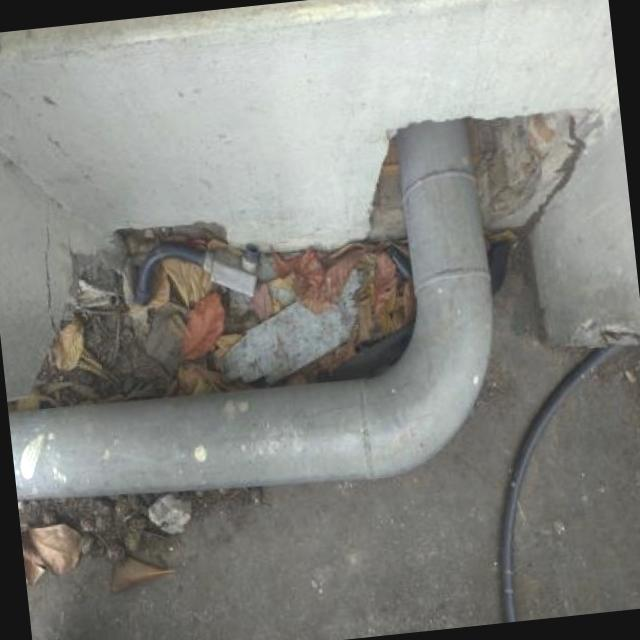gas: (9, 134, 492, 493)
